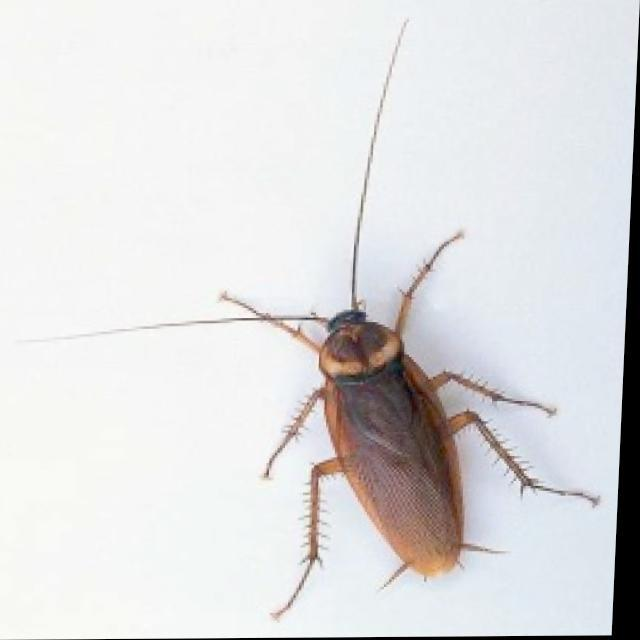cockroach: (233, 256, 507, 596)
